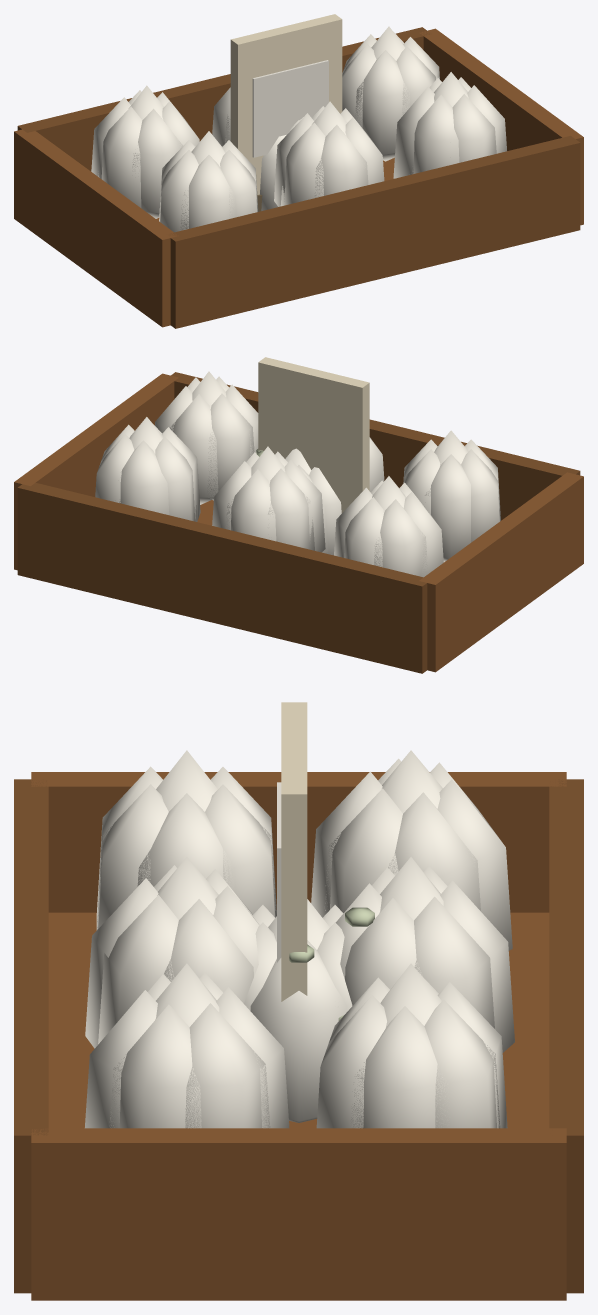
File: Veg_Garlic.fbx
The picture shows the model from 3 angles, top to bottom: view 1: azimuth 30°, elevation 25°; view 2: azimuth 150°, elevation 25°; view 3: azimuth 270°, elevation 25°; orthographic projection. The views are drawn at different scales.
Parts seen in each view (by area): view 1: Veg_Garlic__Stack, Veg_Garlic__Seed, Veg_Garlic; view 2: Veg_Garlic__Stack, Veg_Garlic__Seed, Veg_Garlic; view 3: Veg_Garlic__Stack, Veg_Garlic, Veg_Garlic__Seed, Veg_Garlic__Rotten.
Part boxes in pixels (x1,y1,x2,y2): Veg_Garlic__Stack: (14, 26, 583, 328); Veg_Garlic__Seed: (230, 14, 342, 211); Veg_Garlic: (260, 117, 303, 210); Veg_Garlic__Stack: (14, 371, 583, 673); Veg_Garlic__Seed: (258, 357, 369, 513); Veg_Garlic: (285, 448, 341, 555); Veg_Garlic__Stack: (14, 750, 583, 1300); Veg_Garlic: (244, 899, 352, 1122); Veg_Garlic__Seed: (277, 702, 307, 1001); Veg_Garlic__Rotten: (289, 907, 374, 1020).
Size of the model in its own units: 0.202 by 0.09 by 0.1311.
